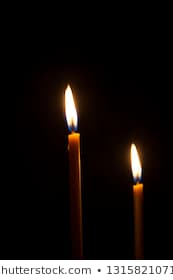Fire: (61, 83, 84, 132), (127, 143, 146, 182)
